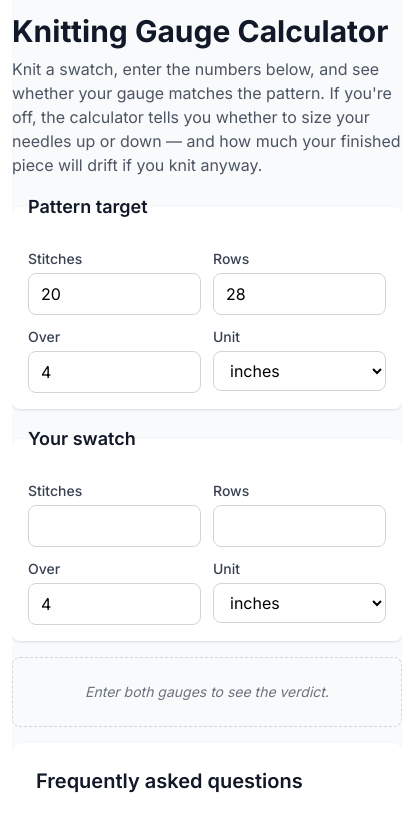
Test case: GaugeCalculator — Sprint 1 Save to Rowly CTA › shows the Save-to-Rowly CTA for logged-out visitors once a result computes
Type "20" into the number field labelled "Stitches" below "Your swatch" at (114, 526), box [28,505,201,547]
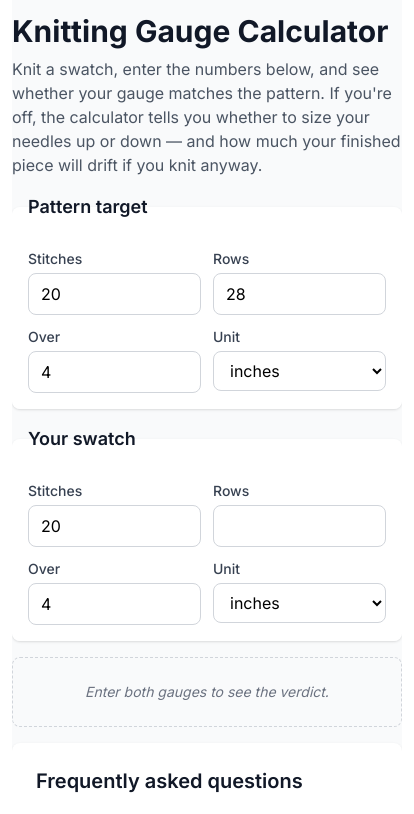
Type "28" into the number field labelled "Rows" below "Your swatch" at (300, 526), box [213,505,386,547]
(page scrolled)
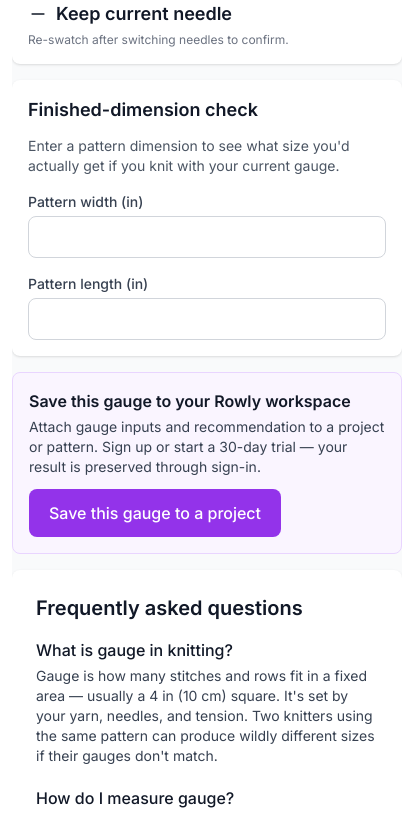
Result: the button "Save this gauge to a project" is shown at [29,489,281,537]
Result: the heading "Save this gauge to your Rowly workspace" is shown at [29,389,385,413]
